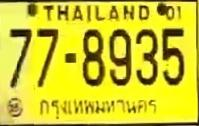3: (134, 29, 158, 85)
5: (161, 27, 184, 85)
7: (9, 28, 31, 86), (36, 28, 58, 86)
8: (82, 28, 104, 85)
9: (108, 28, 131, 85)
BKK: (37, 93, 166, 122)
